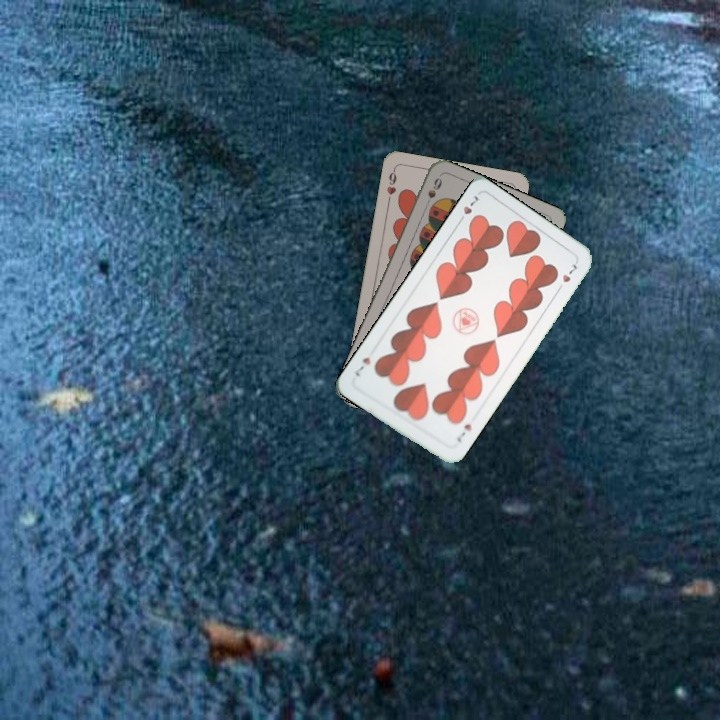H7: (454, 191, 481, 226), (452, 419, 474, 445)
H9: (383, 165, 399, 206)
S9: (420, 174, 445, 212)
